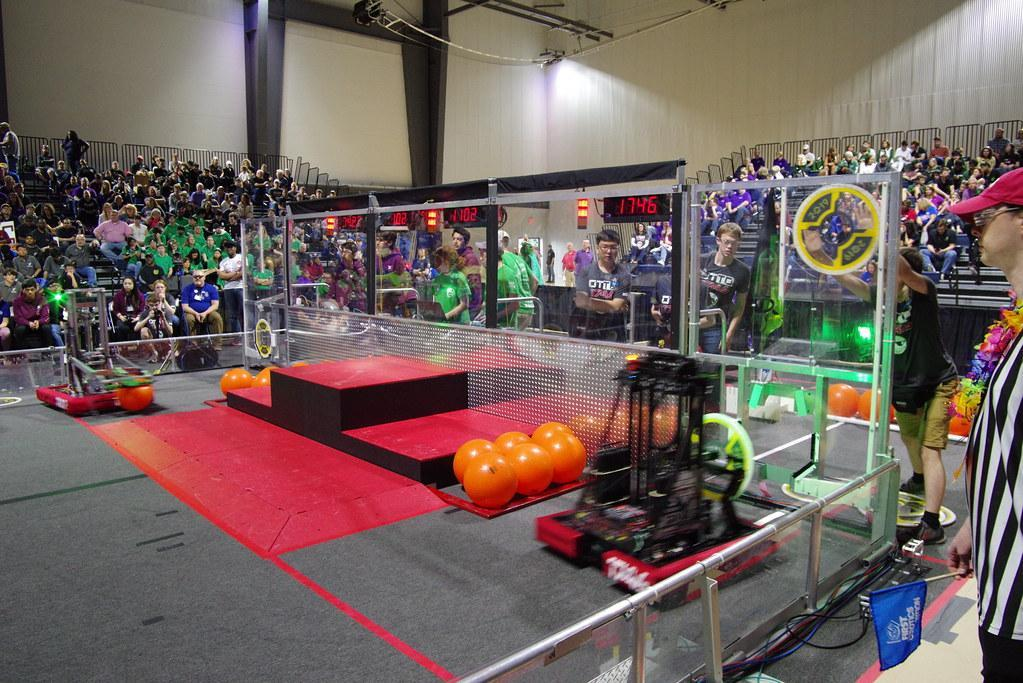robot: (530, 341, 782, 619), (29, 284, 160, 420)
